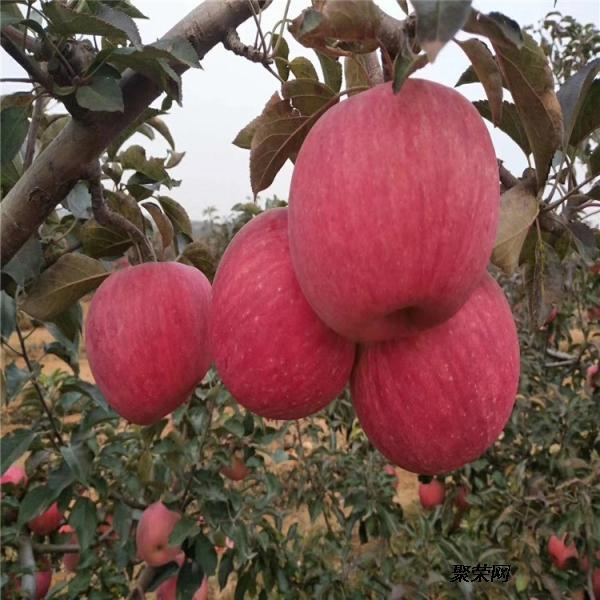apple: (288, 77, 500, 343), (346, 269, 522, 473), (210, 208, 356, 421), (84, 259, 214, 424), (134, 500, 190, 566), (417, 474, 444, 508)
